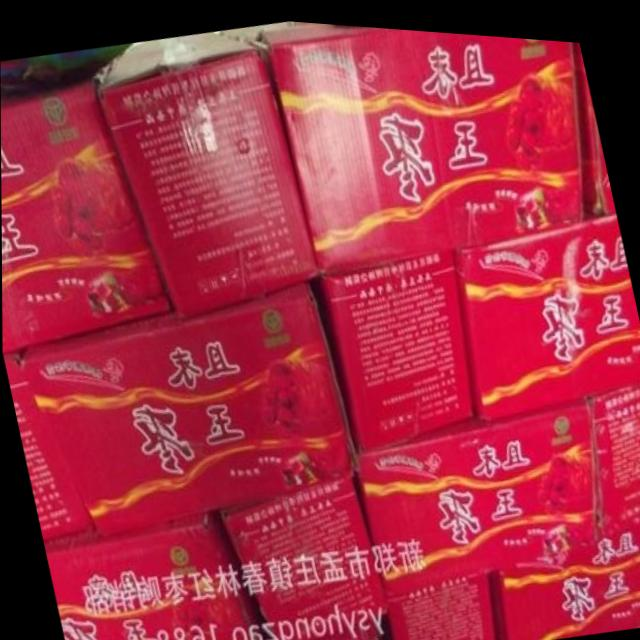box: (27, 271, 354, 535), (262, 19, 585, 272), (98, 27, 320, 311), (332, 369, 598, 591), (1, 41, 174, 352), (452, 196, 640, 420), (319, 243, 477, 449), (42, 505, 263, 640), (218, 469, 386, 640), (488, 510, 640, 639), (2, 345, 94, 538), (386, 558, 494, 640), (588, 371, 640, 522), (290, 610, 378, 640)
